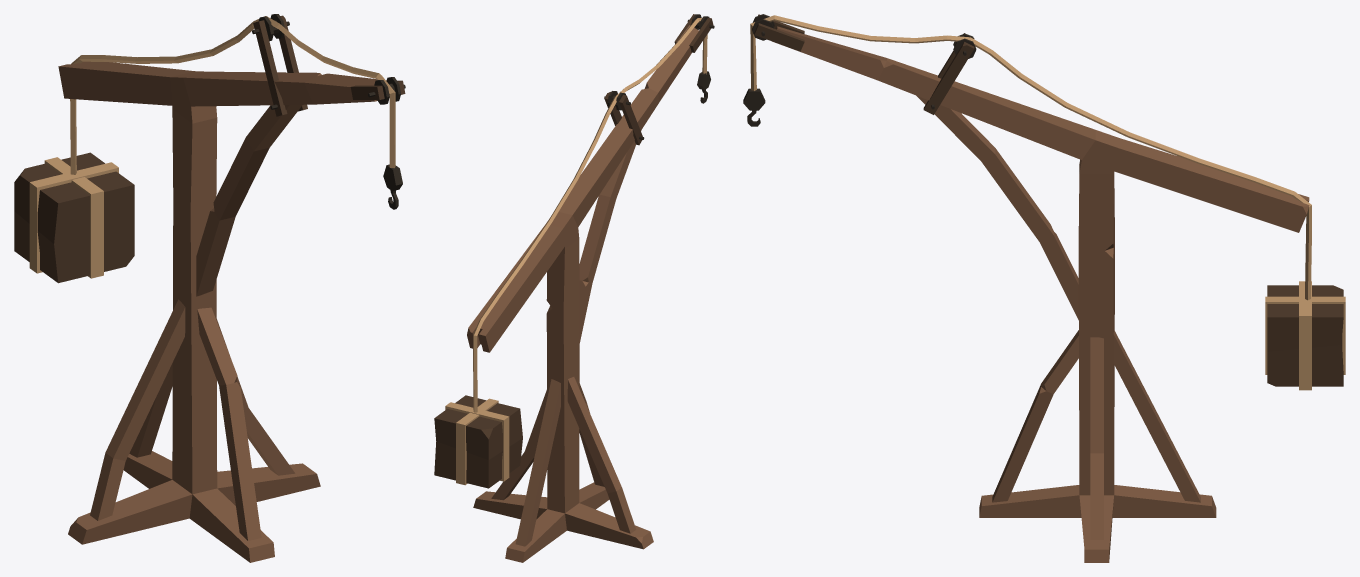
The model's file is Crane_dock.fbx.
3 views of the same model, side by side, from view 1: azimuth 30°, elevation 25°; view 2: azimuth 150°, elevation 25°; view 3: azimuth 270°, elevation 25° (orthographic). The views are drawn at different scales.
Parts seen in each view (by area): view 1: Crane_dock; view 2: Crane_dock; view 3: Crane_dock.
Boxes of the visible parts, left/top/right/bottom form: Crane_dock: left=14, top=14, right=405, bottom=562; Crane_dock: left=434, top=14, right=714, bottom=562; Crane_dock: left=743, top=14, right=1345, bottom=562.
Bounding box in the file's own units: 279 × 111 × 254.
